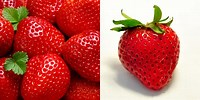Fresa: (117, 20, 182, 93), (18, 51, 71, 100), (13, 15, 65, 61), (60, 28, 100, 83), (53, 1, 100, 39)
